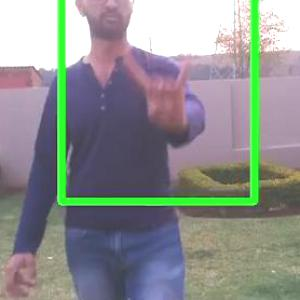takeoff-hand: (120, 47, 202, 142)
